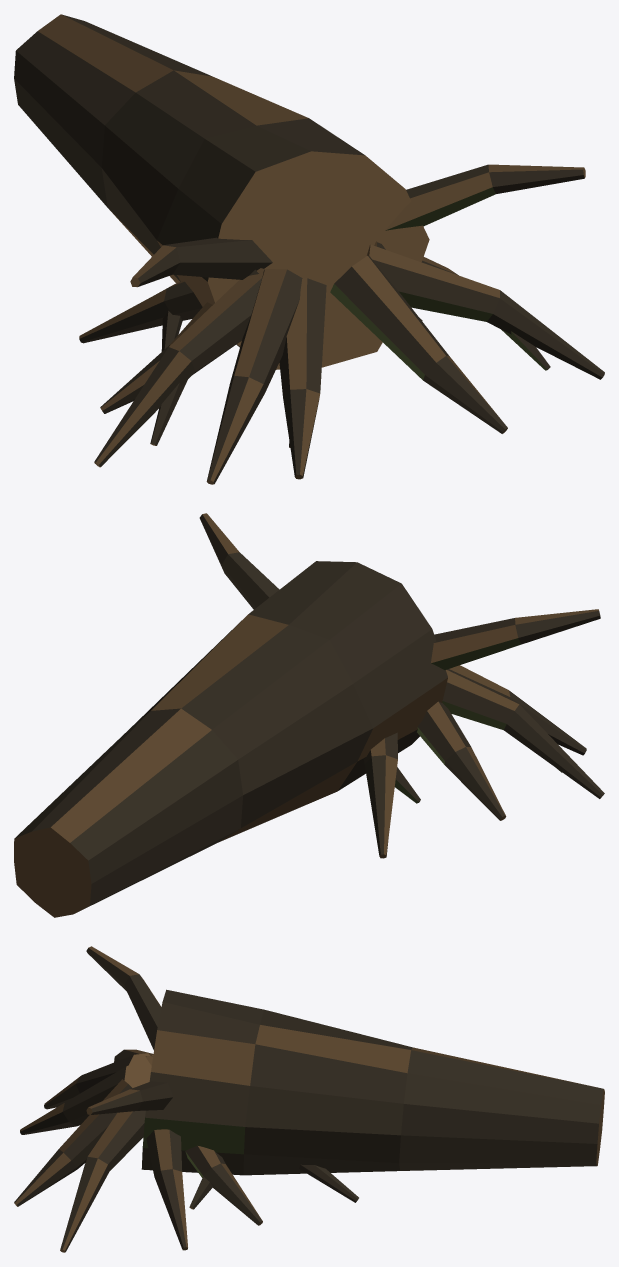
Rendered from wood_007b_broad_root_ball.glb.
3 renders of one model, top to bottom at view 1: azimuth 30°, elevation 25°; view 2: azimuth 150°, elevation 25°; view 3: azimuth 270°, elevation 25°, orthographic. The views are drawn at different scales.
Visible parts, largest first — view 1: wood_007b_broad_root_ball__mesh; view 2: wood_007b_broad_root_ball__mesh; view 3: wood_007b_broad_root_ball__mesh.
Part boxes in pixels (x1,y1,x2,y2): wood_007b_broad_root_ball__mesh: (14,14,604,484); wood_007b_broad_root_ball__mesh: (14,513,604,917); wood_007b_broad_root_ball__mesh: (14,946,604,1252).
Size of the model in its own units: 6.88 by 3.22 by 10.06.
